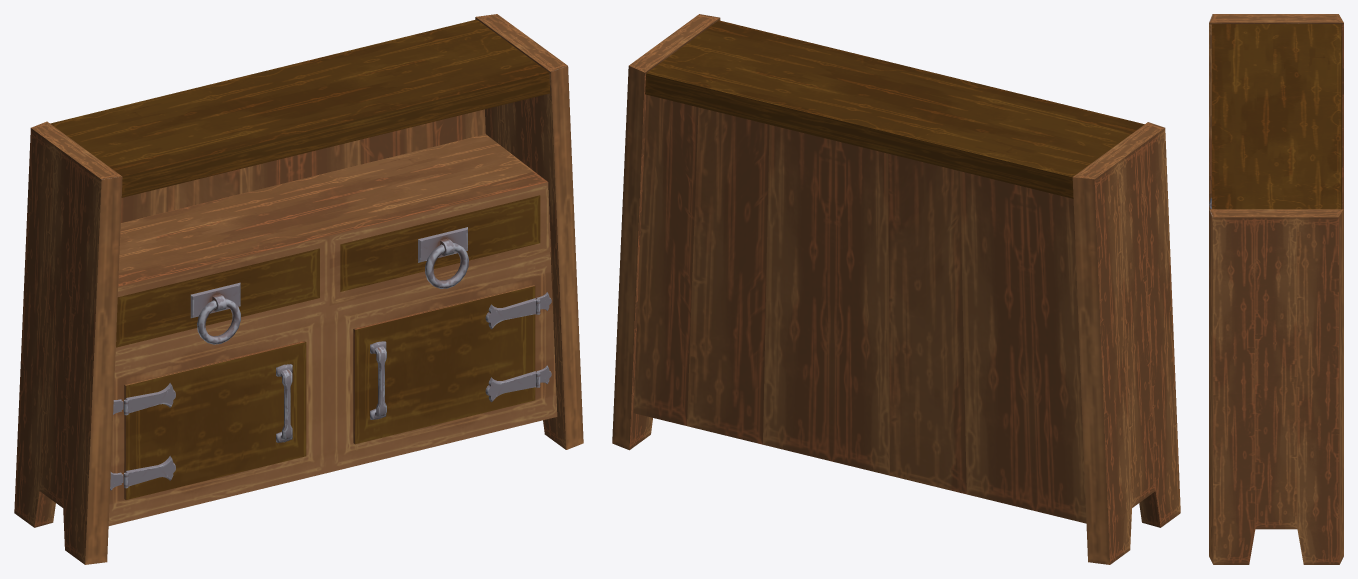
The model's file is cabinet.glb.
The picture shows the model from 3 angles, left to right: view 1: azimuth 30°, elevation 25°; view 2: azimuth 150°, elevation 25°; view 3: azimuth 270°, elevation 25°; orthographic projection. The views are drawn at different scales.
Parts seen in each view (by area): view 1: Cabinet; view 2: Cabinet; view 3: Cabinet.
Boxes of the visible parts, x1=… form: Cabinet: x1=14, y1=14, x2=583, y2=564; Cabinet: x1=612, y1=14, x2=1180, y2=564; Cabinet: x1=1209, y1=14, x2=1343, y2=564.
Bounding box in the file's own units: 1.36 × 0.9974 × 0.3571.
2 materials, 2 textured.
